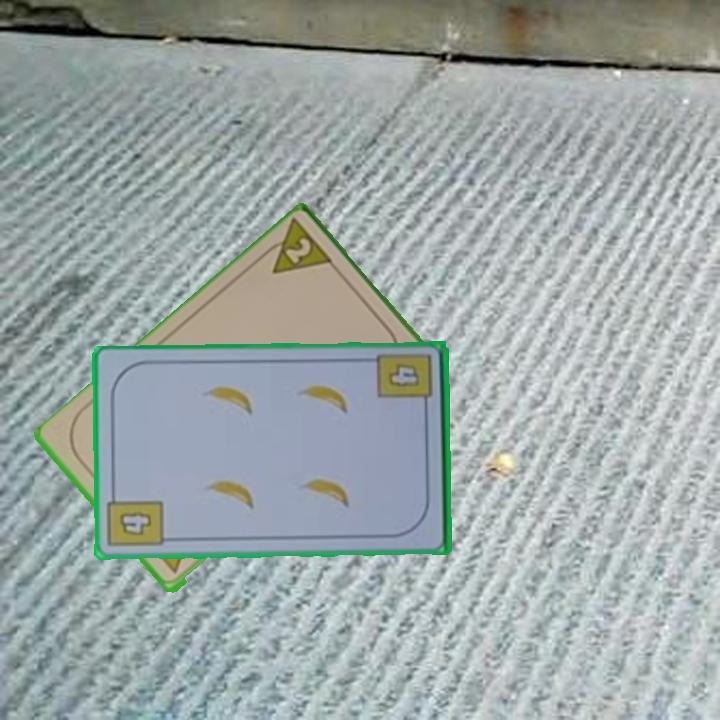2p: (255, 217, 338, 278)
4b: (374, 350, 436, 415), (104, 487, 166, 551)
